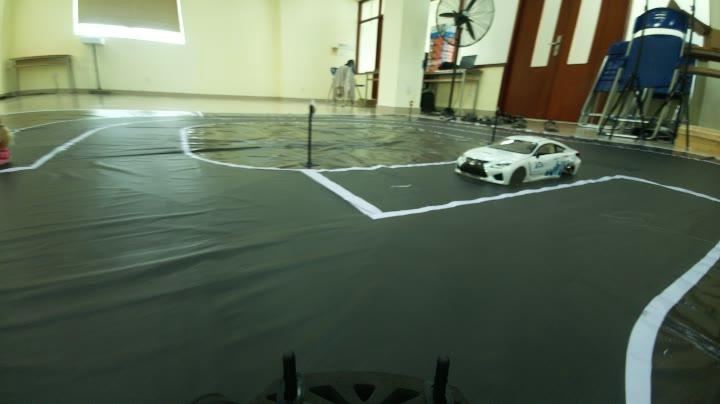car: (456, 129, 590, 189)
